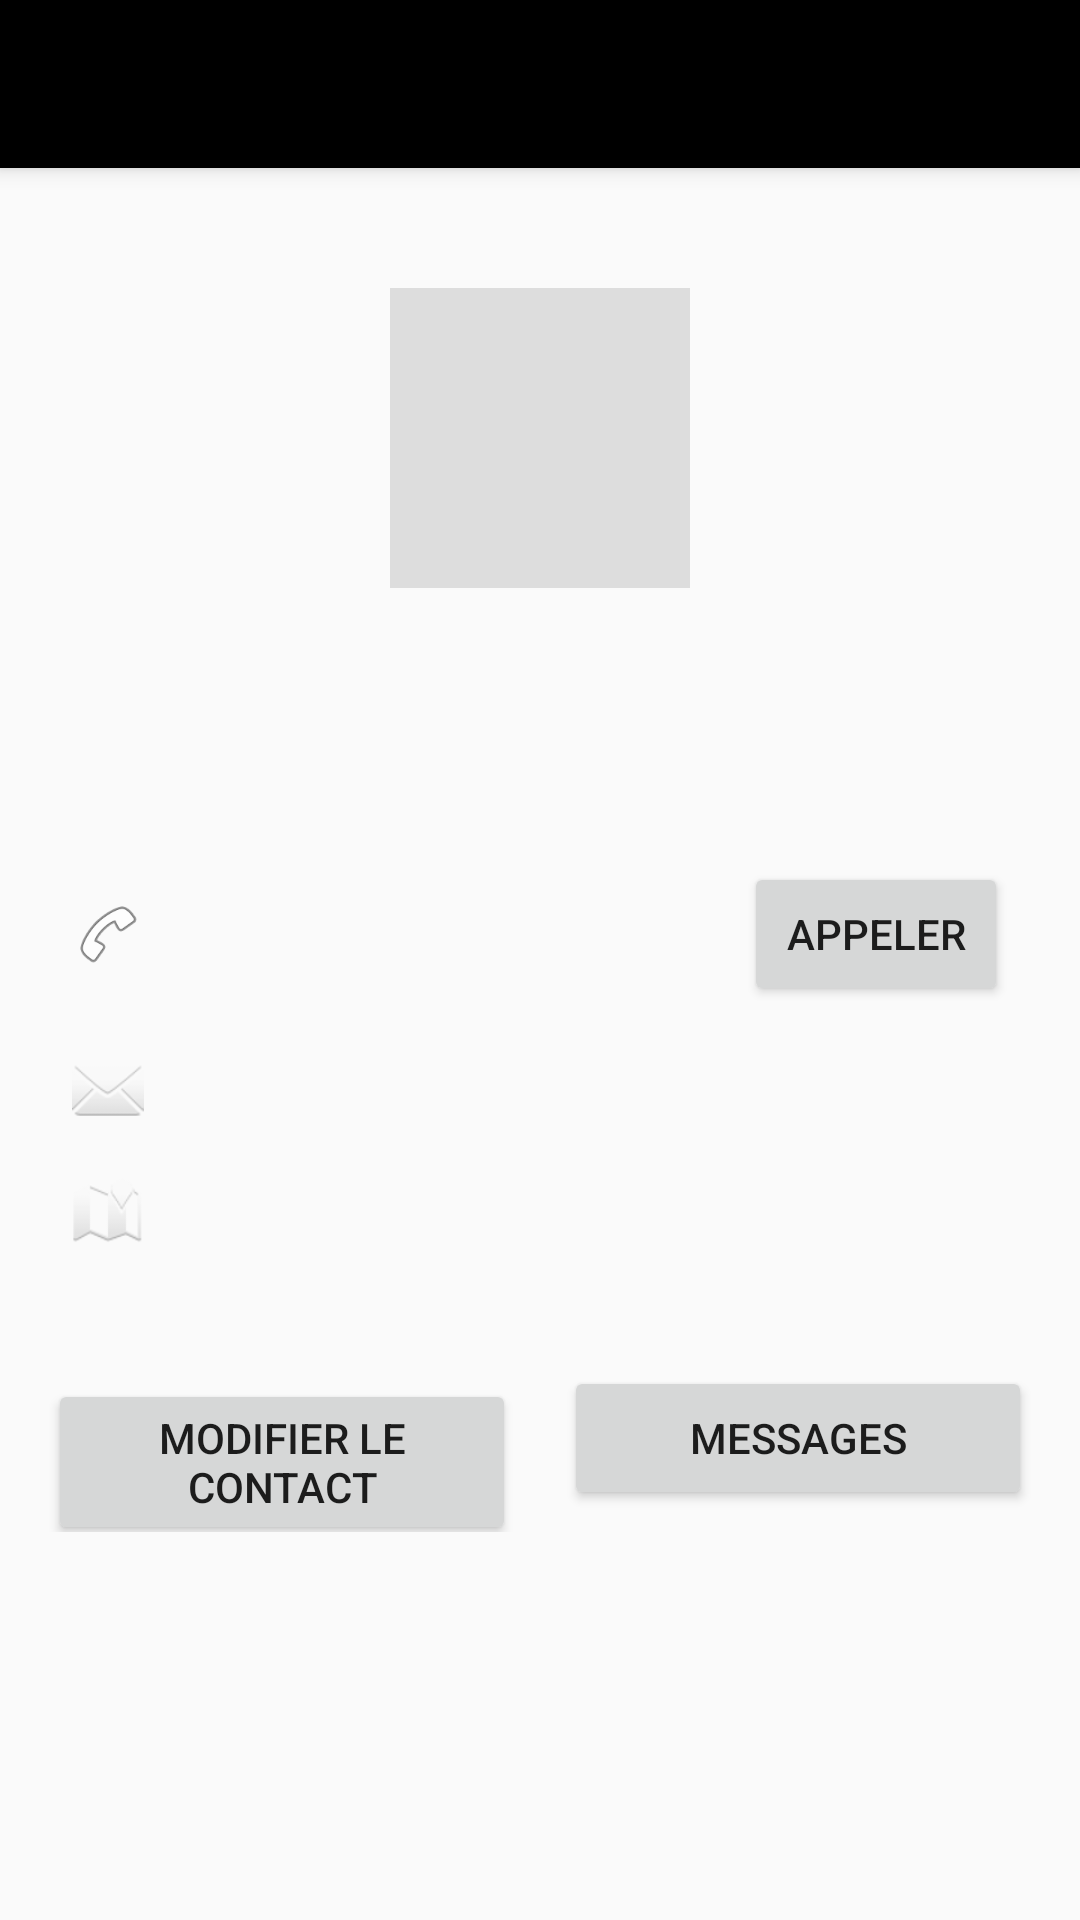

Named icons in this screenshot (1080 × 1920) and their bounding boxes, (x1, y1, x2, y2):
call: (80, 906, 137, 963)
email: (72, 1067, 144, 1116)
map: (73, 1187, 141, 1241)
